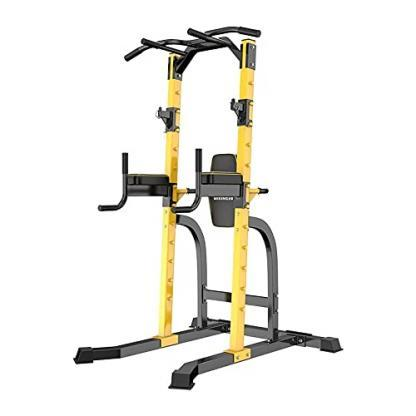chinning dipping: (72, 26, 344, 386)
